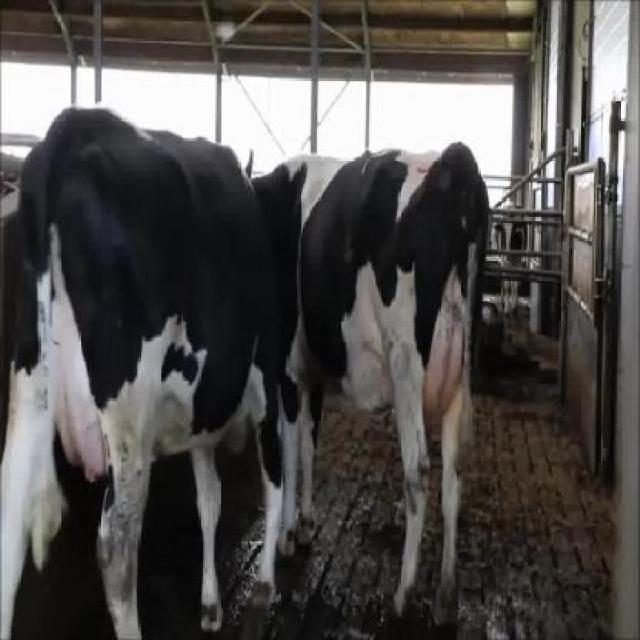Cow: (0, 101, 285, 638), (243, 137, 491, 638)
